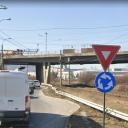preferencia: (88, 42, 122, 72)
